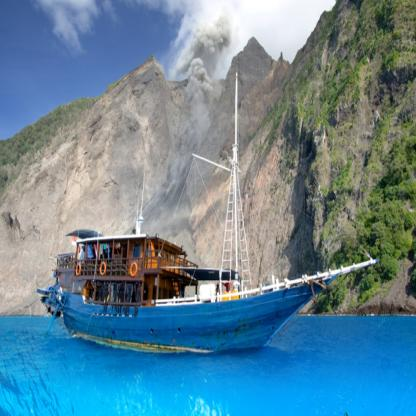fishing boat: (36, 227, 372, 351)
